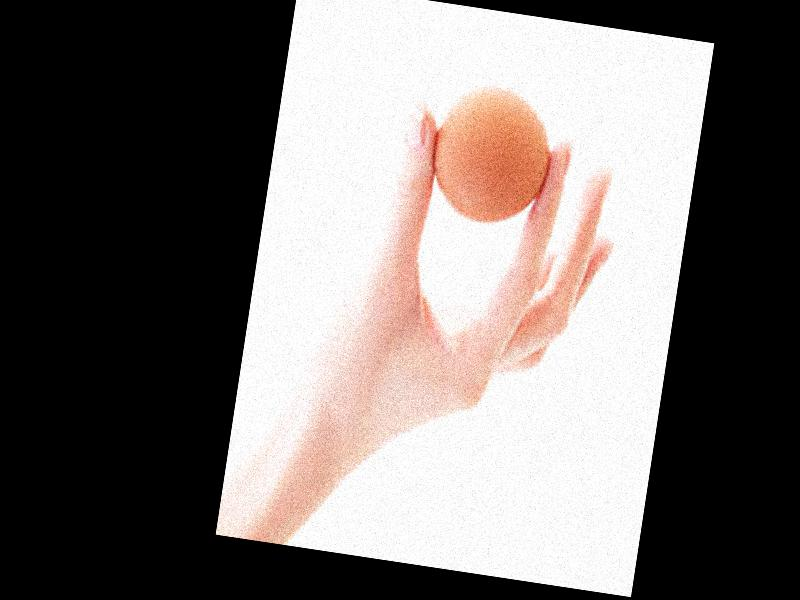Eggs: (423, 80, 560, 228)
